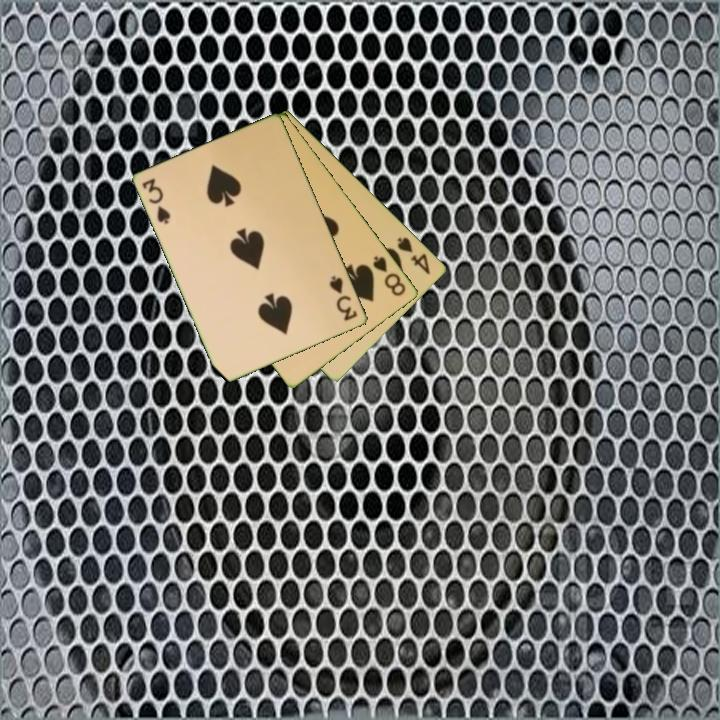3s: (326, 272, 361, 324), (139, 175, 174, 227)
4s: (394, 234, 433, 277)
8s: (370, 252, 409, 299)
